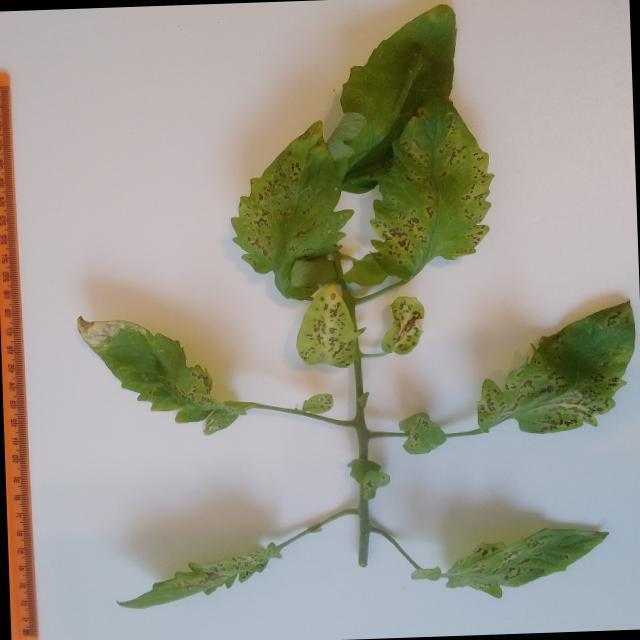Septoria: (473, 305, 640, 442), (378, 106, 496, 279), (216, 117, 334, 260), (108, 540, 279, 616), (447, 524, 599, 602), (298, 281, 361, 376), (401, 412, 431, 450), (299, 389, 337, 417)
